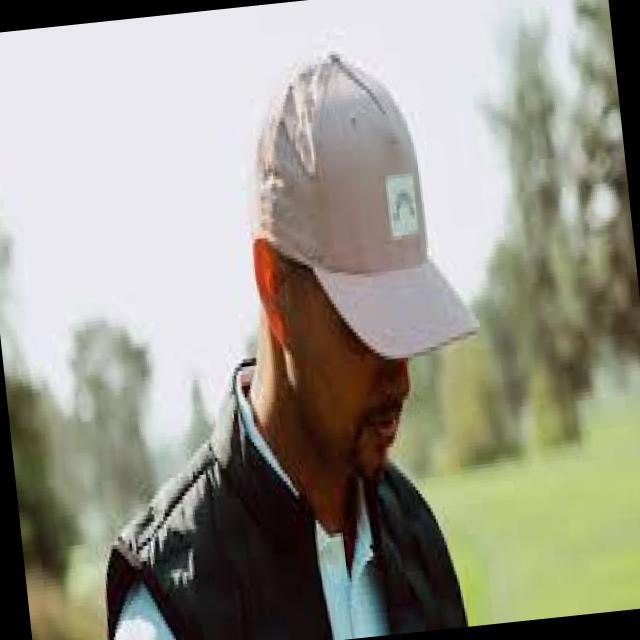cap: (222, 4, 501, 408)
